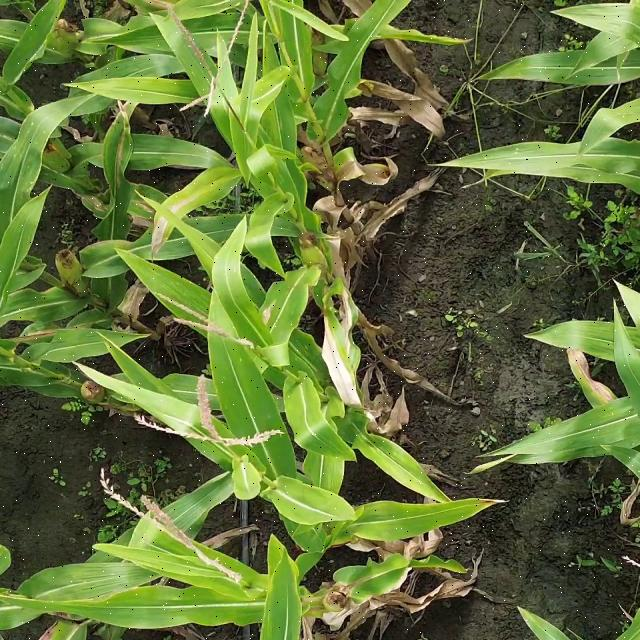gray-leaf-spot: (129, 268, 257, 341)
northern-leaf-blight: (140, 173, 227, 254), (323, 284, 378, 410), (100, 115, 132, 214)
southern-leaf-blight: (356, 432, 441, 504), (0, 116, 49, 221), (450, 146, 562, 170)
